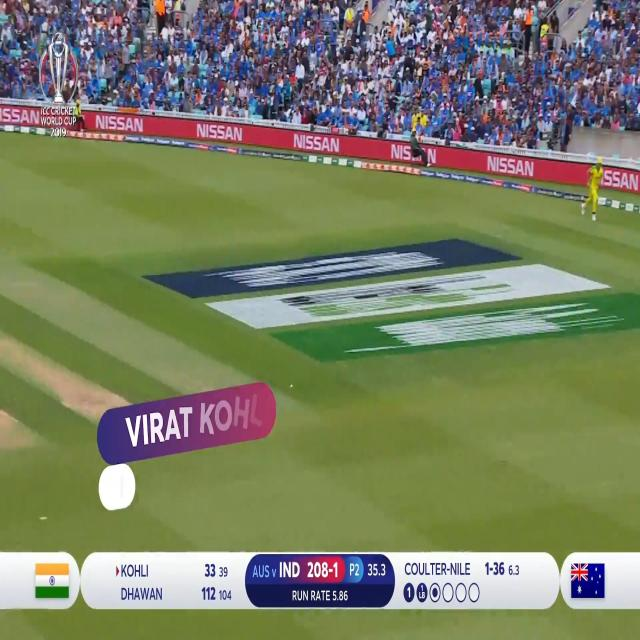ball: (287, 377, 298, 395)
